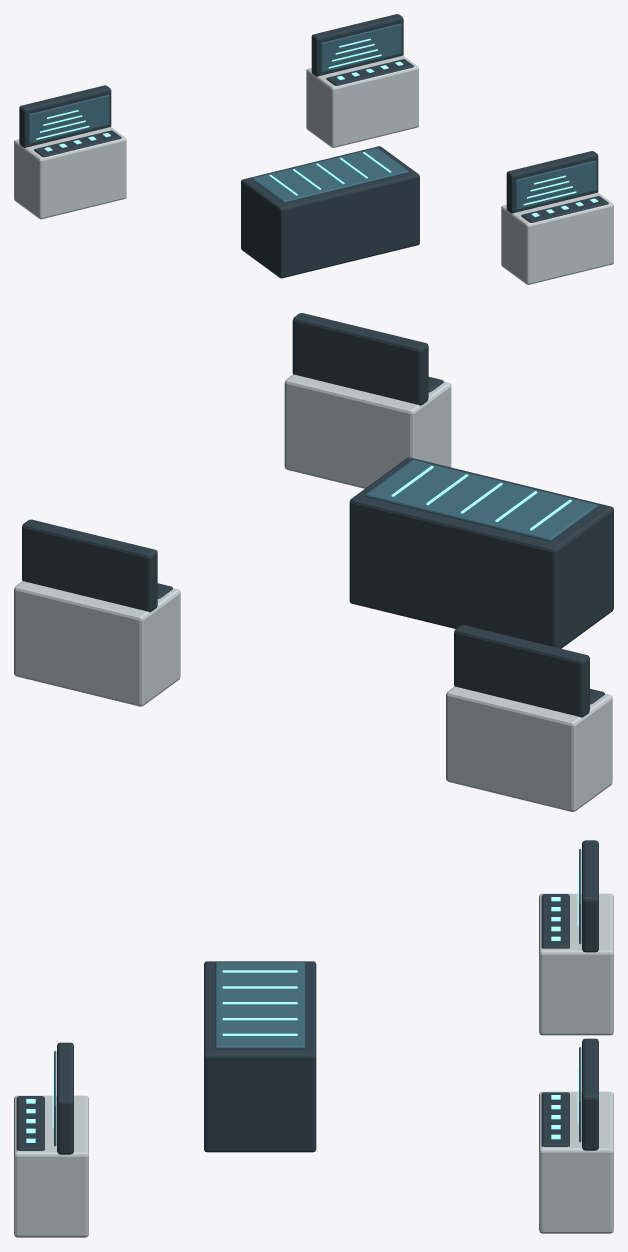
The model's file is review-interior.glb.
The picture shows the model from 3 angles, top to bottom: view 1: azimuth 30°, elevation 25°; view 2: azimuth 150°, elevation 25°; view 3: azimuth 270°, elevation 25°; orthographic projection. The views are drawn at different scales.
Parts seen in each view (by area): view 1: Furniture_Ivory, Furniture_Dark, Furniture_Glass, Furniture_Accent; view 2: Furniture_Dark, Furniture_Ivory, Furniture_Glass, Furniture_Accent; view 3: Furniture_Ivory, Furniture_Dark, Furniture_Glass, Furniture_Accent.
Boxes of the visible parts, box(x1,y1,x2,y2) form: Furniture_Ivory: box(14, 55, 613, 284); Furniture_Dark: box(19, 14, 608, 278); Furniture_Glass: box(28, 23, 596, 209); Furniture_Accent: box(36, 38, 598, 216); Furniture_Dark: box(22, 313, 613, 717); Furniture_Ivory: box(14, 374, 612, 811); Furniture_Glass: box(365, 460, 597, 541); Furniture_Accent: box(391, 466, 571, 530); Furniture_Ivory: box(14, 893, 613, 1237); Furniture_Dark: box(16, 840, 598, 1154); Furniture_Glass: box(54, 849, 581, 1146); Furniture_Accent: box(26, 870, 578, 1142).
Bounding box in the file's own units: 6.6 × 1.62 × 6.4.
